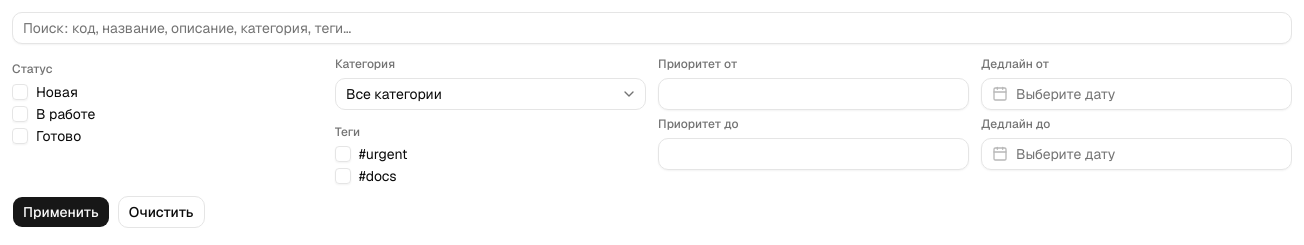
TaskFilters › lists distinct categories derived from the visible tasks
The width and height of the screenshot is (1304, 245).
Click the dropdown with test id "task-filters-category".
click(394, 94)  # box [335,78,646,110]
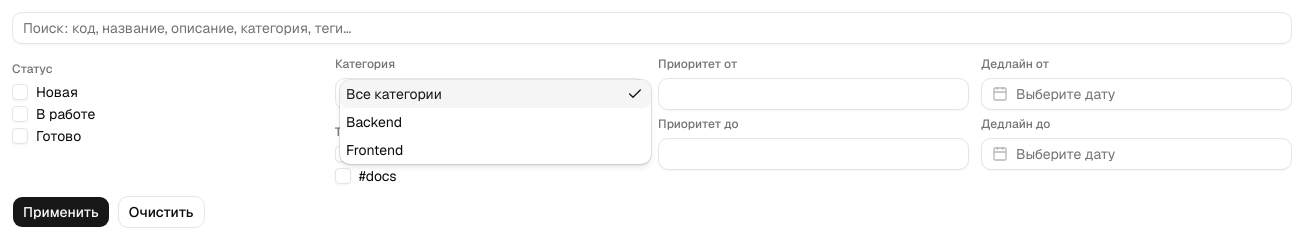
Now the option "Backend" is shown, box [346,113,402,131]
Now the option "Frontend" is shown, box [346,141,403,159]
